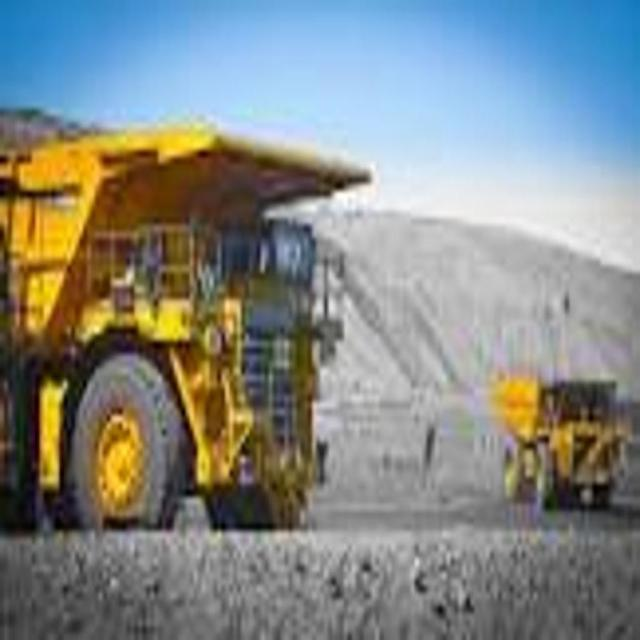dump_truck: (0, 98, 358, 515), (478, 328, 640, 550)
